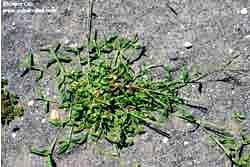crabgrass: (41, 42, 183, 141)
